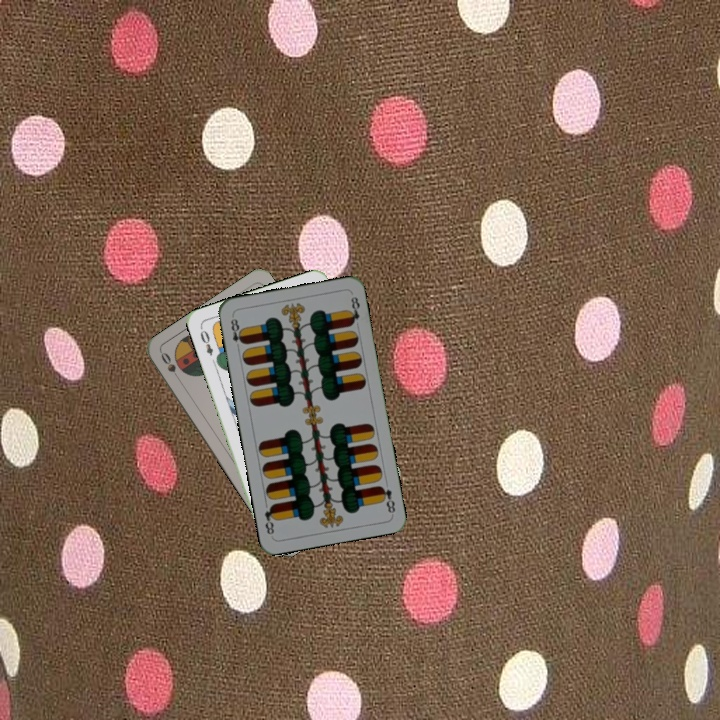E8: (227, 312, 247, 353), (375, 482, 398, 516)
EO: (196, 323, 216, 358)
SO: (157, 348, 184, 385)
